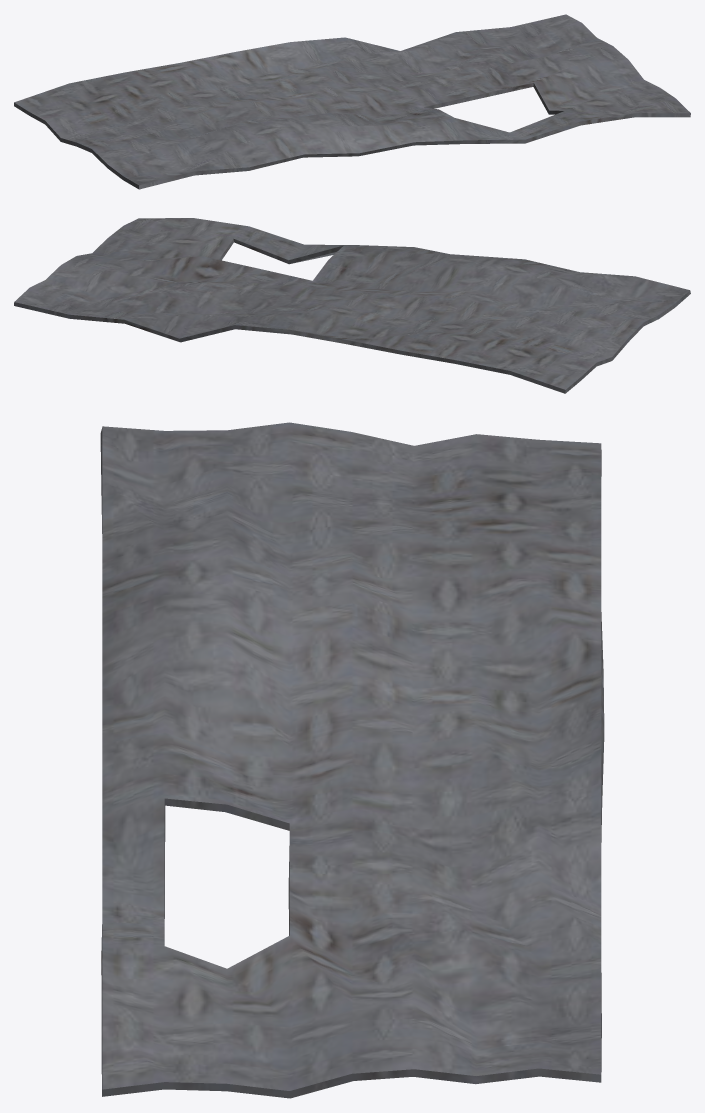
File: sheet_4.glb
3 views of the same model, one above another, from view 1: azimuth 30°, elevation 25°; view 2: azimuth 150°, elevation 25°; view 3: azimuth 270°, elevation 25° (orthographic). The views are drawn at different scales.
Visible parts, largest first — view 1: sheet_4; view 2: sheet_4; view 3: sheet_4.
Part boxes in pixels (box(x1,y1,x2,y2)): sheet_4: box(14, 14, 690, 189); sheet_4: box(14, 218, 690, 393); sheet_4: box(100, 422, 604, 1098).
Bounding box in the file's own units: 0.5868 × 0.0731 × 0.232.
1 material, 1 textured.
